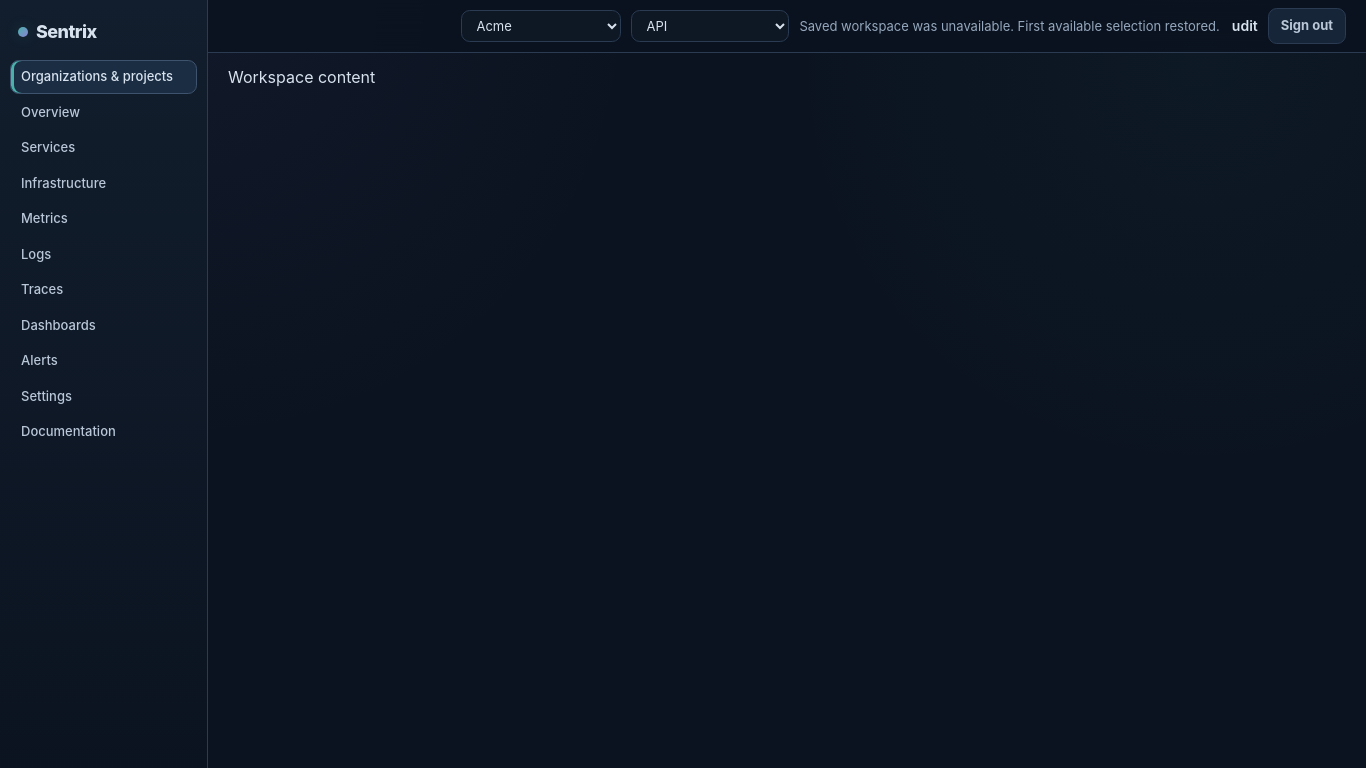
Test: AppShell › flags a removed saved workspace stale, falls back and clears on manual selection
This screenshot has width=1366, height=768.
Expected: the message shows "Saved workspace was unavailable", [799,18,1220,34]
Select "Beta" in the dropdown named "Organization" at (541, 26), box [461,10,621,42]
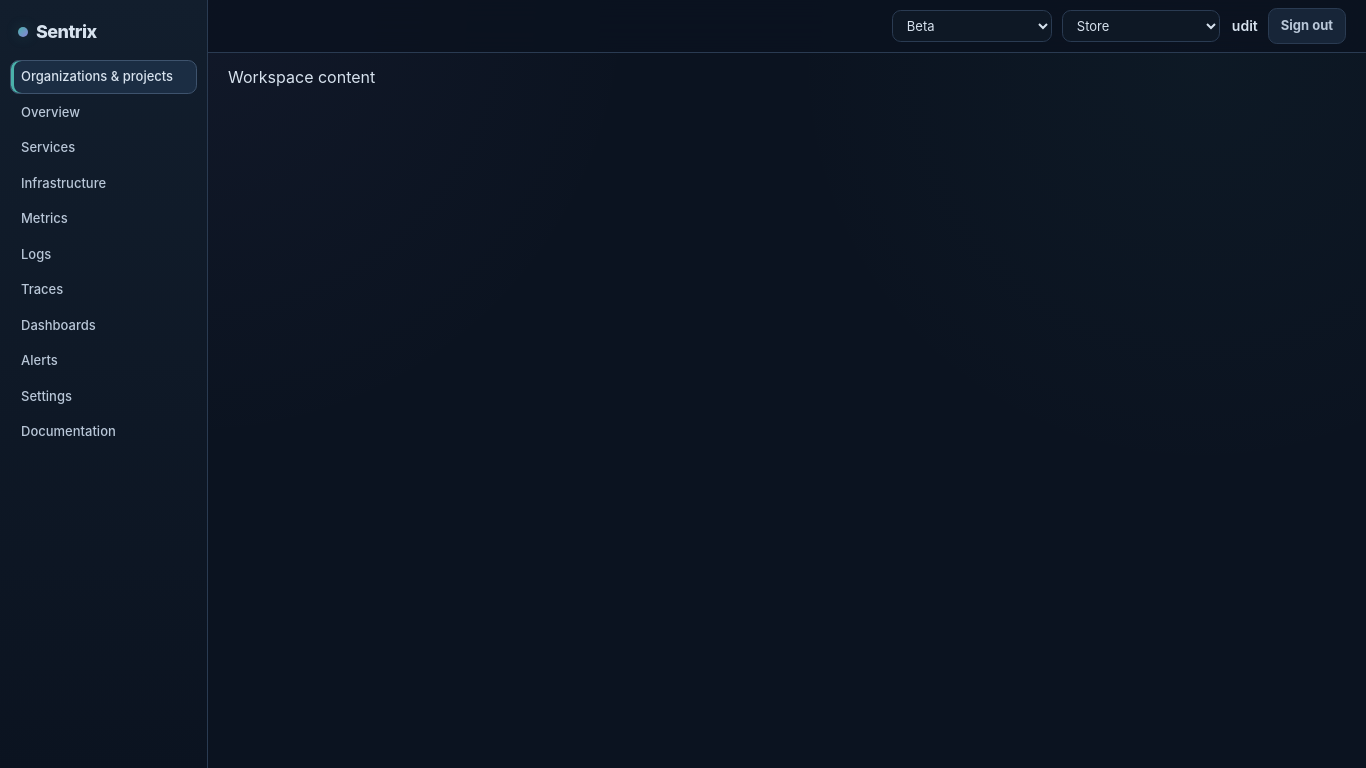
Now the text "Saved workspace was unavailable" is gone
